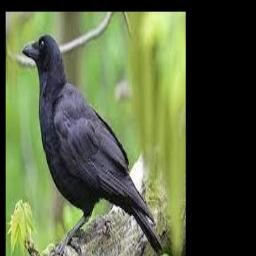Crow: (21, 34, 162, 256)
